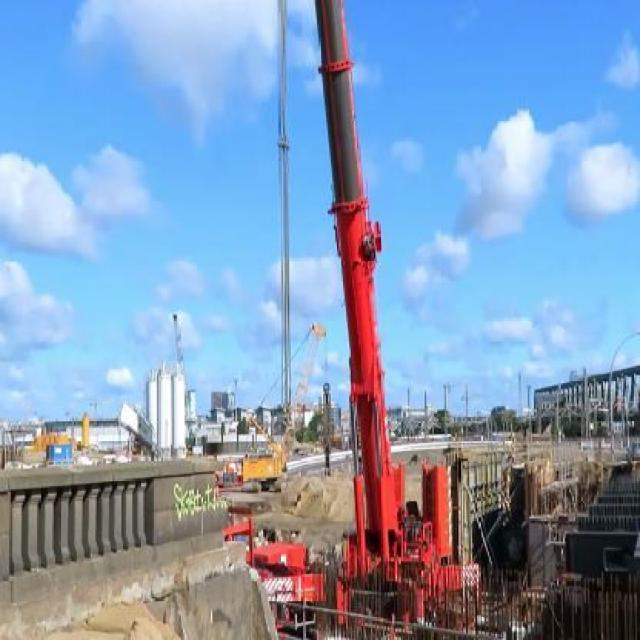Mobile Crane: (267, 1, 481, 613), (240, 323, 329, 492)
